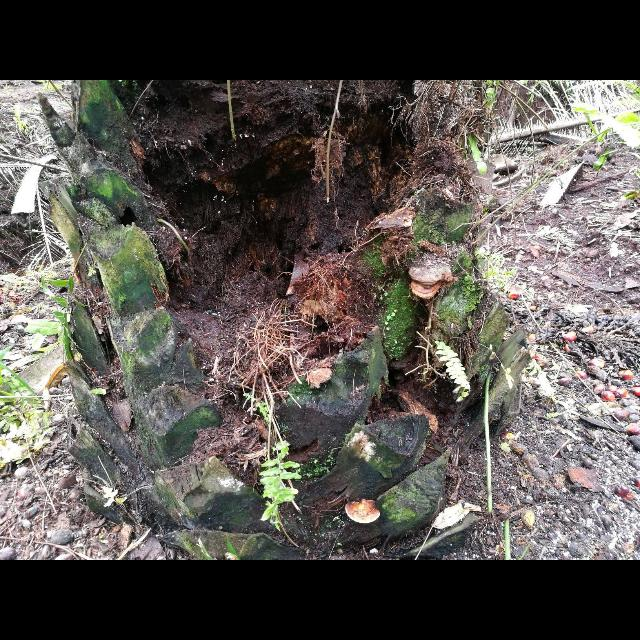ganoderma: (408, 260, 457, 301), (345, 502, 381, 525)
